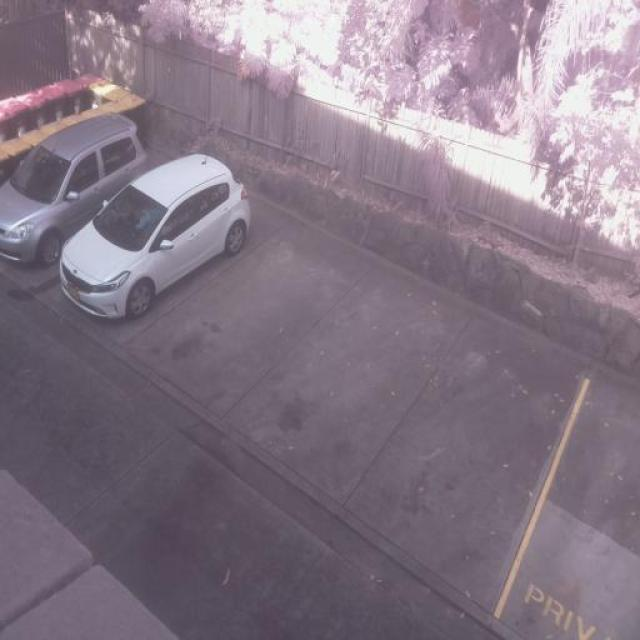Legalparking: (0, 89, 288, 375)
